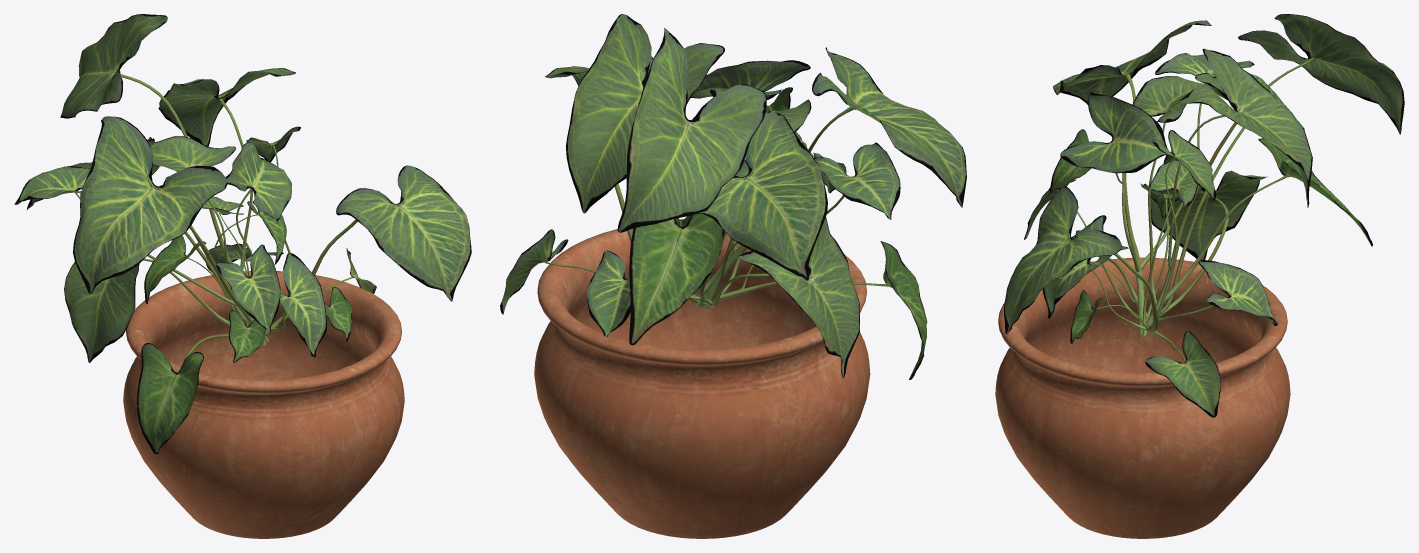
Rendered from selected.gltf.
The picture shows the model from 3 angles, left to right: view 1: azimuth 30°, elevation 25°; view 2: azimuth 150°, elevation 25°; view 3: azimuth 270°, elevation 25°; orthographic projection. The views are drawn at different scales.
Visible parts, largest first — view 1: potted_plant_02_leaves, potted_plant_02_pot; view 2: potted_plant_02_leaves, potted_plant_02_pot; view 3: potted_plant_02_pot, potted_plant_02_leaves.
Boxes of the visible parts, box(x1,y1,x2,y2) form: potted_plant_02_leaves: box(14, 14, 471, 454); potted_plant_02_pot: box(123, 271, 404, 538); potted_plant_02_leaves: box(500, 14, 966, 379); potted_plant_02_pot: box(534, 219, 870, 538); potted_plant_02_pot: box(995, 257, 1290, 538); potted_plant_02_leaves: box(1004, 14, 1404, 417).
Bounding box in the file's own units: 0.7012 × 0.8412 × 0.6574.
2 materials, 2 textured.
